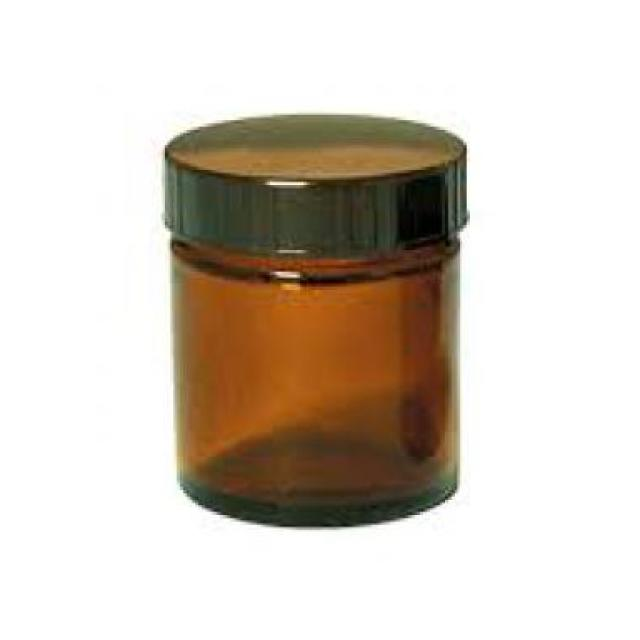kaca: (168, 232, 460, 526)
